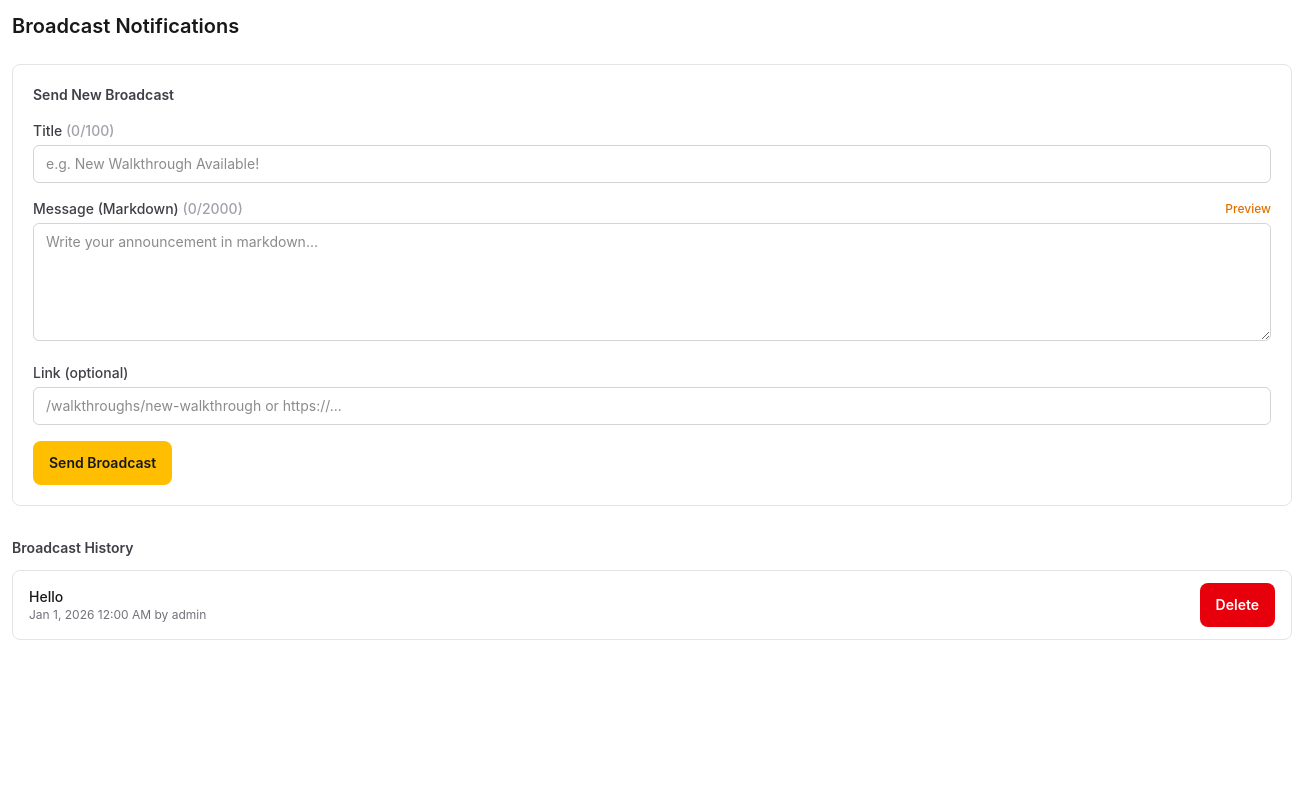
Scenario: deletes a broadcast after confirmation
Check: the text "Hello" is shown, box [29,588,63,605]
Click the button "Delete": (1237,605) [1200,583,1275,627]
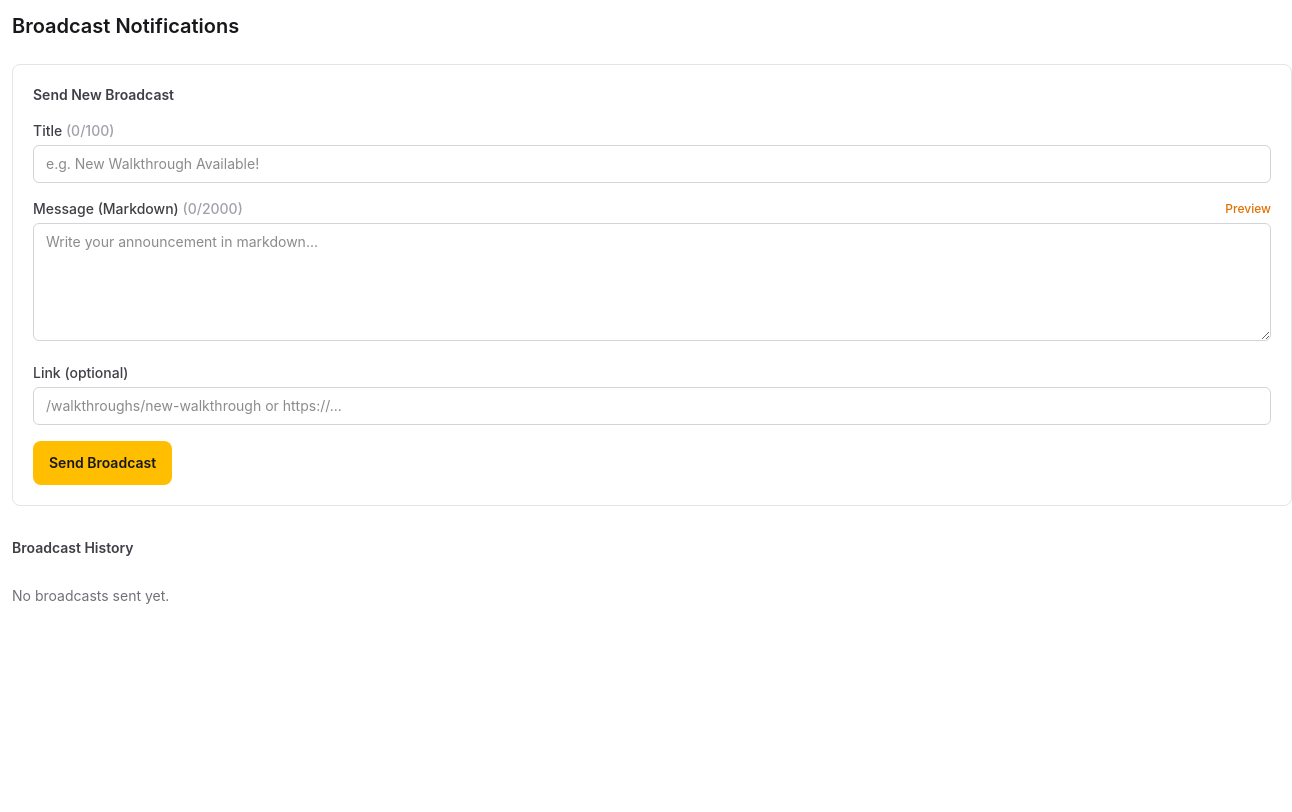
Check: the text "Hello" is gone
